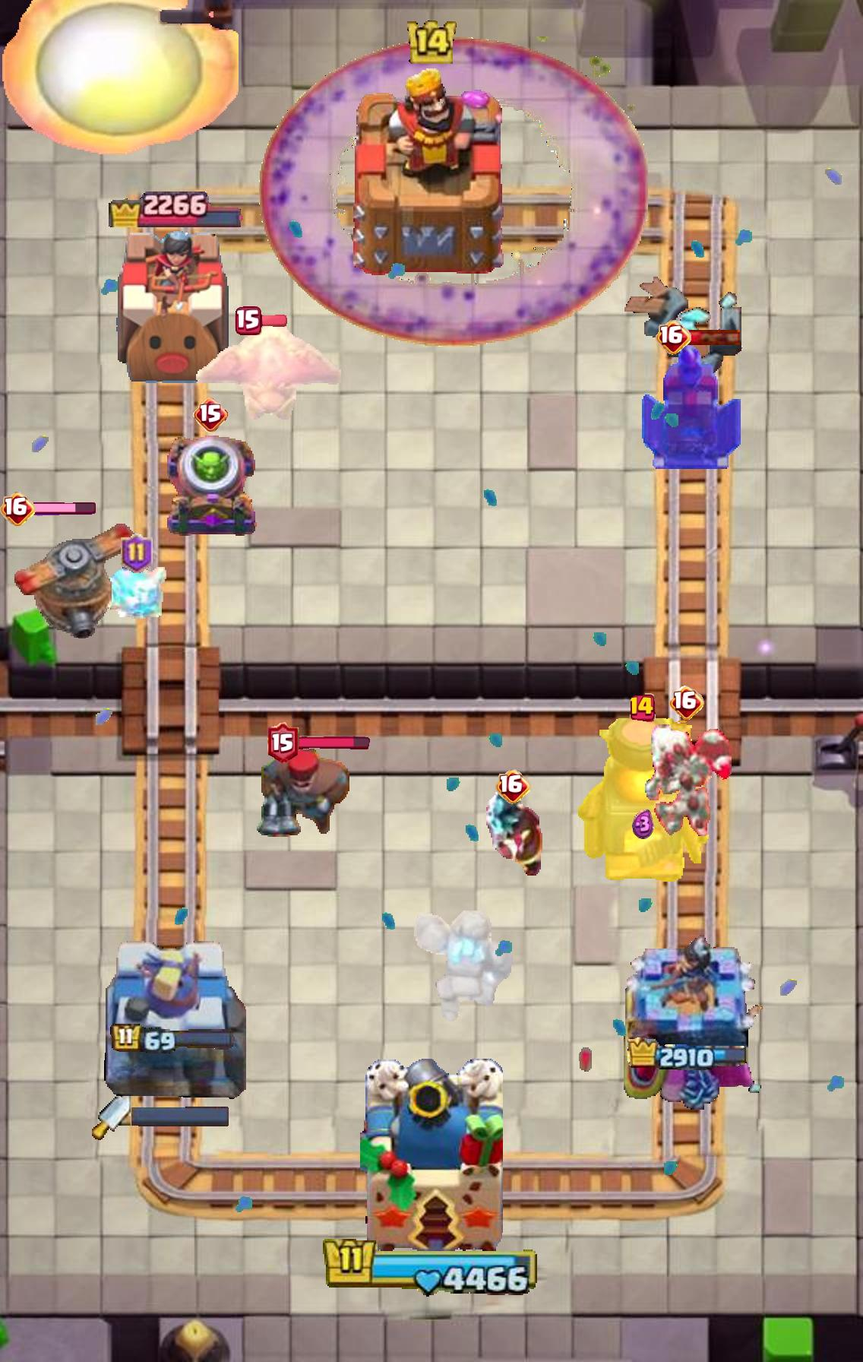bar: (296, 736, 370, 751), (20, 502, 95, 516), (688, 329, 741, 346), (258, 315, 287, 327)
bar-level: (267, 722, 299, 763), (655, 320, 691, 355), (0, 492, 36, 527), (121, 534, 153, 573), (496, 769, 531, 804), (193, 398, 228, 432), (669, 685, 704, 719), (235, 306, 263, 335), (630, 693, 656, 722)
